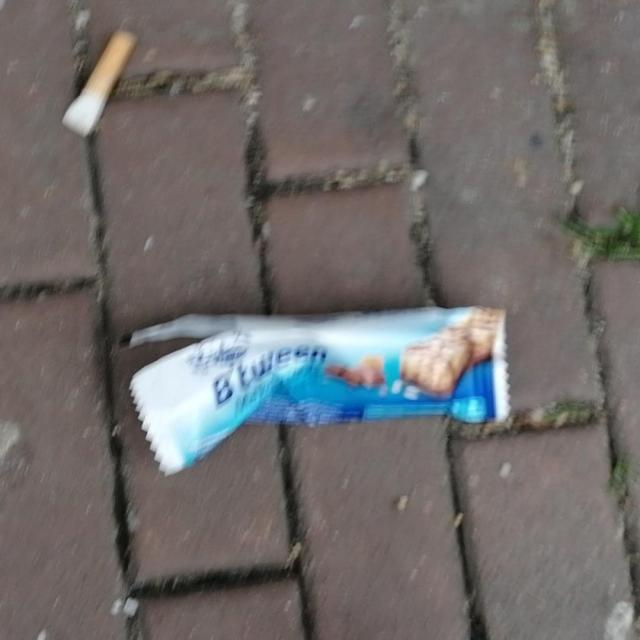Plastic: (111, 302, 513, 484)
